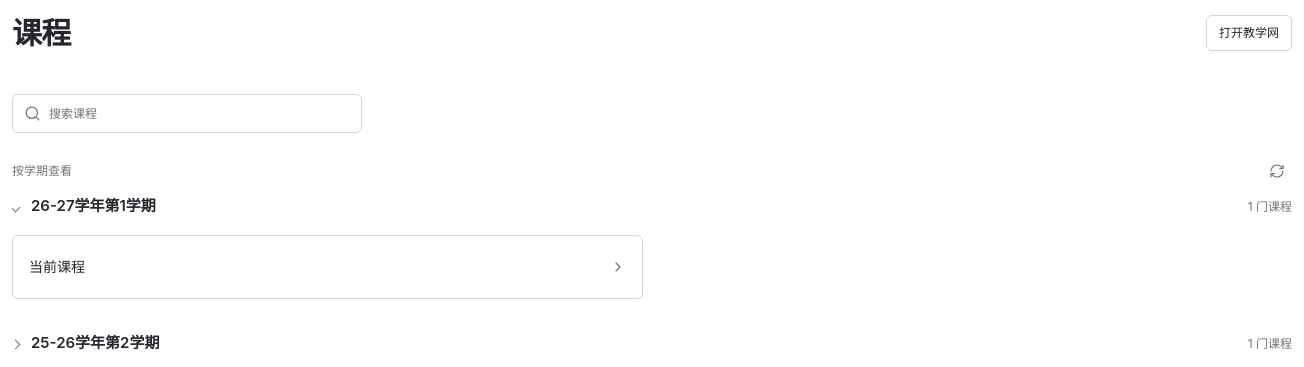
groups every semester newest first and searches across semesters
Expected: the heading "当前课程" is shown, [29,255,85,278]
Type "历史" into the search field with placeholder "搜索课程" at point(200, 114), box [49,104,350,123]
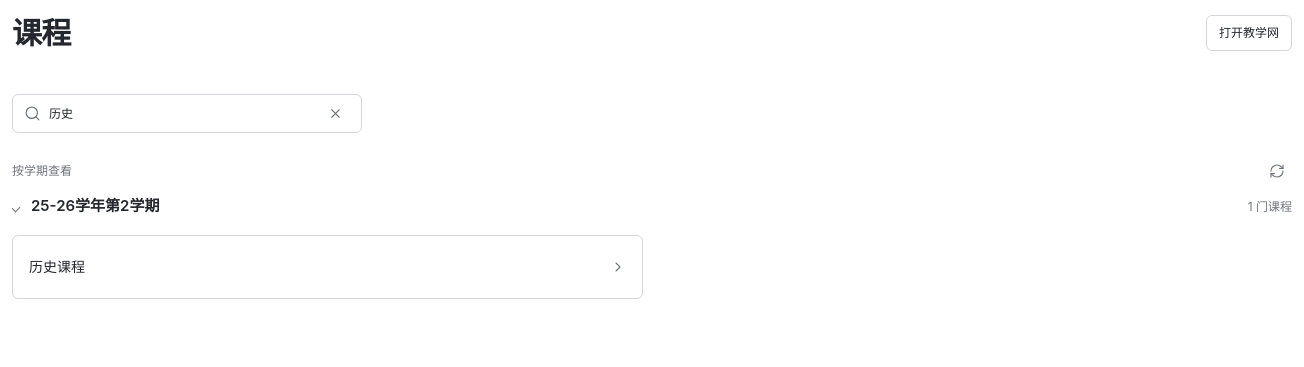
Expected: the heading "历史课程" is shown, [29,255,85,278]
Expected: the heading "26-27学年第1学期" is gone
